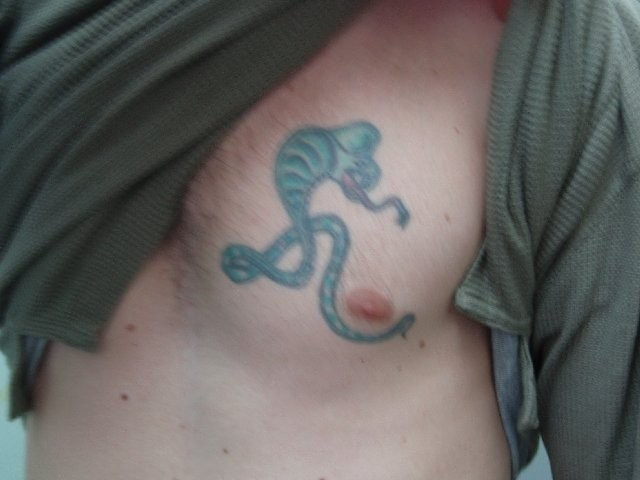tatu7_zmeya: (193, 99, 443, 366)
